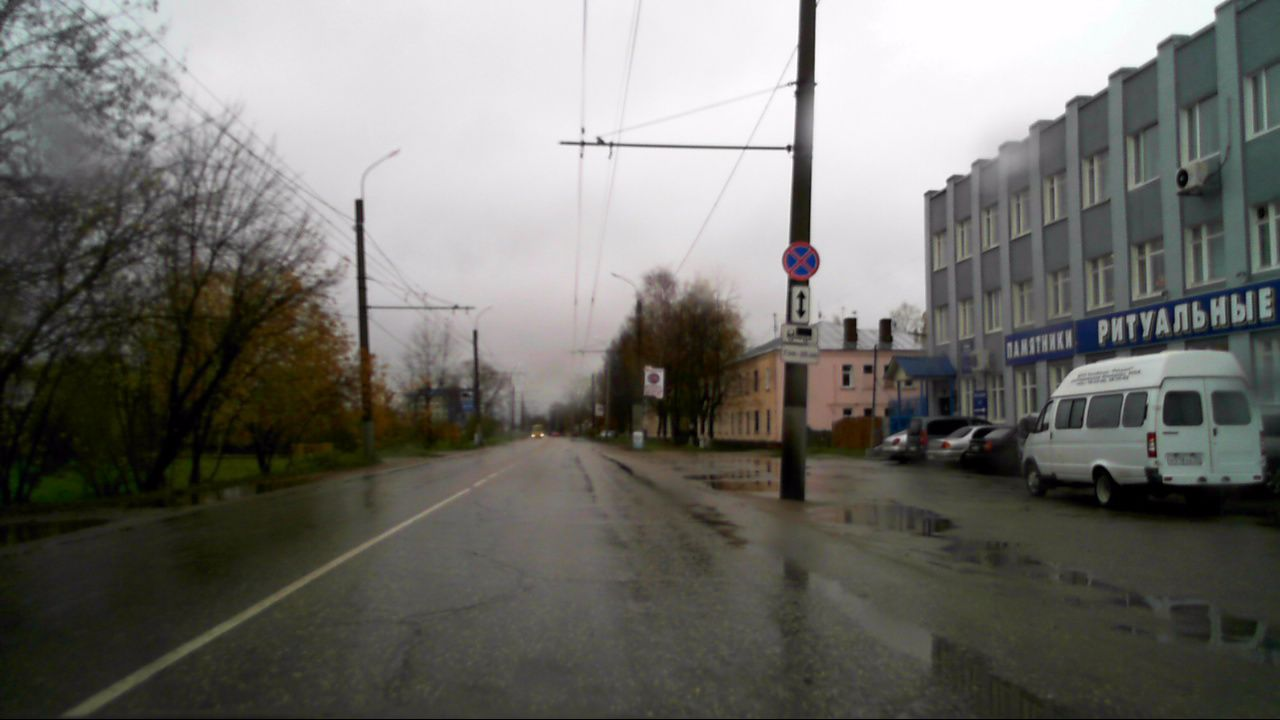No Parking: (782, 241, 819, 279)
